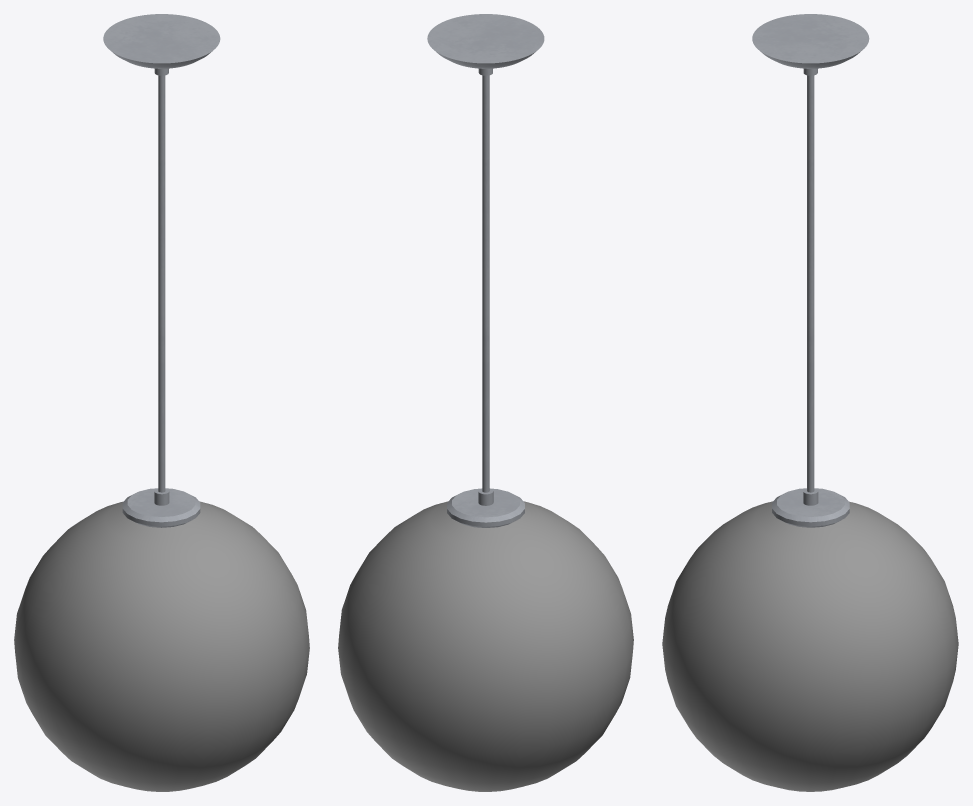
Rendered from Ceiling Lamp 17.FBX.
3 views of the same model, side by side, from view 1: azimuth 30°, elevation 25°; view 2: azimuth 150°, elevation 25°; view 3: azimuth 270°, elevation 25° (orthographic).
Parts seen in each view (by area): view 1: ceiling lamp 17; view 2: ceiling lamp 17; view 3: ceiling lamp 17.
Boxes of the visible parts, x1,y1,x2,y2 form: ceiling lamp 17: (14,14,309,791); ceiling lamp 17: (338,14,633,791); ceiling lamp 17: (662,14,958,791).
Size of the model in its own units: 31.54 by 86.82 by 31.54.
Materials: 2 (1 with a texture image).
